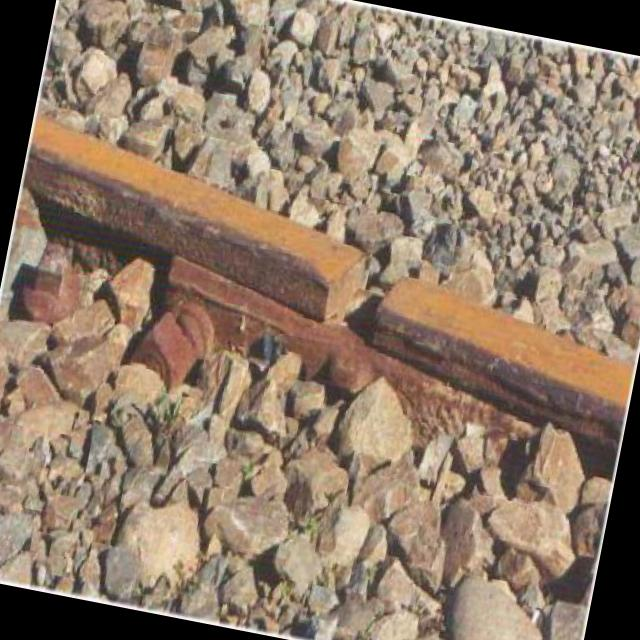defective: (186, 173, 489, 494)
